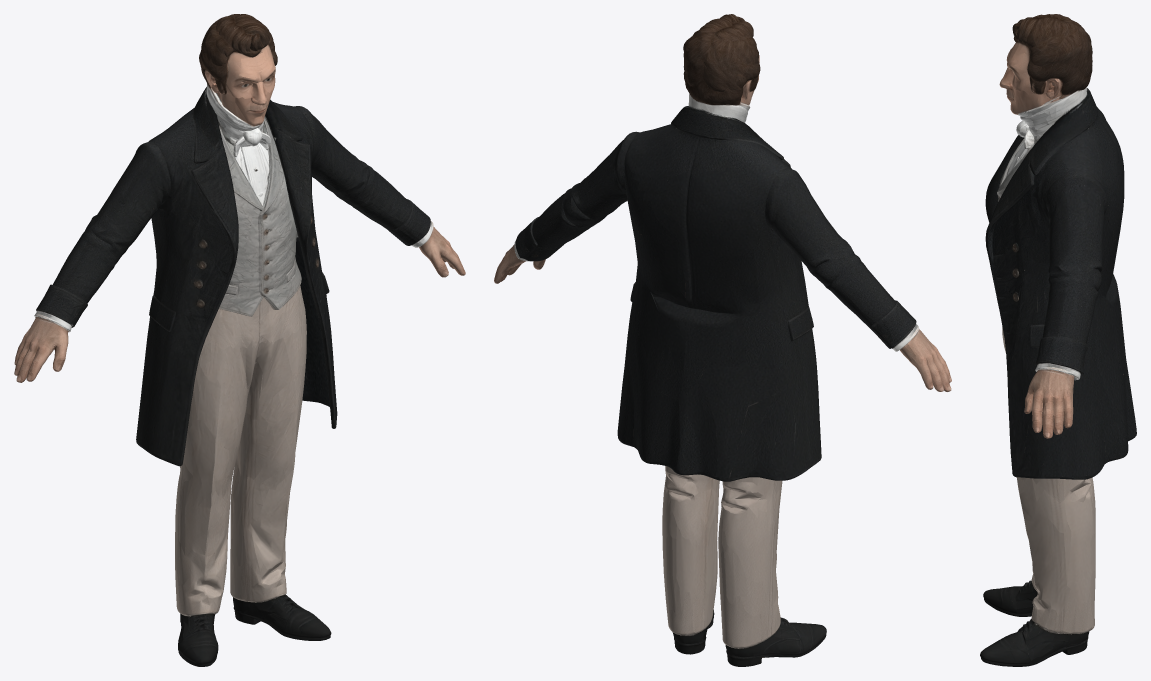
The model's file is hyrum-smith-remeshed.glb.
The picture shows the model from 3 angles, left to right: view 1: azimuth 30°, elevation 25°; view 2: azimuth 150°, elevation 25°; view 3: azimuth 270°, elevation 25°; orthographic projection.
Visible parts, largest first — view 1: output_unwrapped; view 2: output_unwrapped; view 3: output_unwrapped.
Boxes of the visible parts, <box> form: output_unwrapped: <box>14,14,465,666</box>; output_unwrapped: <box>494,14,951,666</box>; output_unwrapped: <box>980,14,1136,666</box>.
Size of the model in its own units: 1.45 by 1.9 by 0.4357.
Materials: 1 (1 with a texture image).
